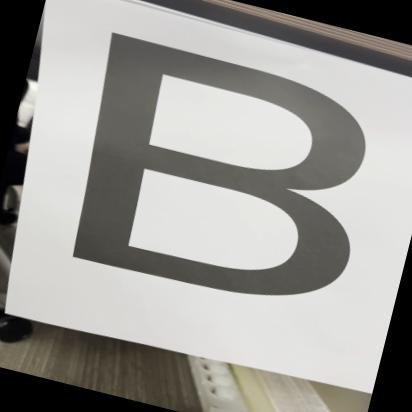seat: (41, 15, 410, 331)
